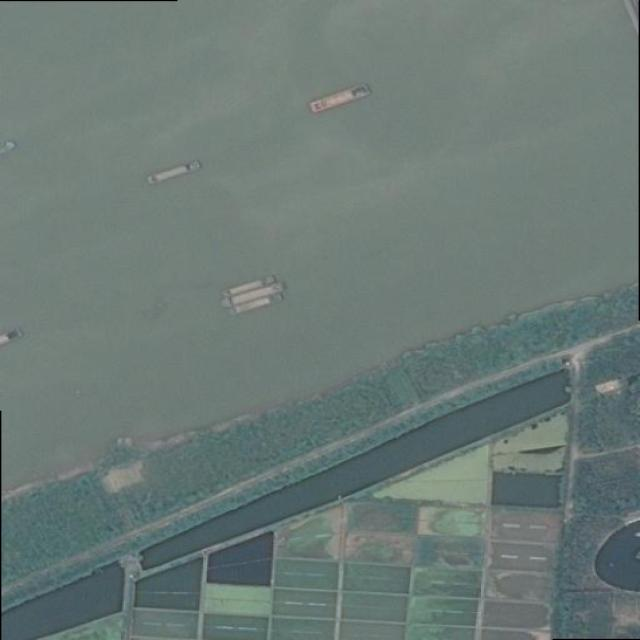ship: (311, 83, 372, 113), (225, 283, 289, 310), (149, 159, 204, 186), (231, 294, 285, 316), (226, 276, 278, 298)
